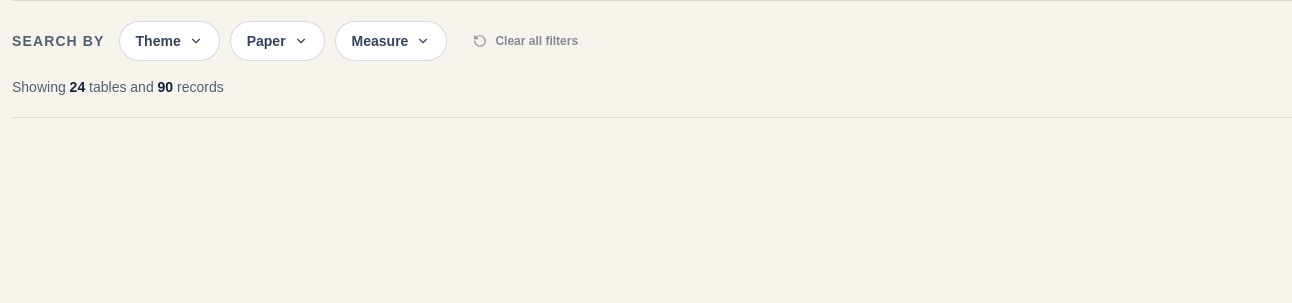
Test: VariableFilterBar › keeps checkbox selection open and Clear all filters closes the menu and clears selections
Click the heading "Theme".
click(169, 41)  # box [118,21,220,61]
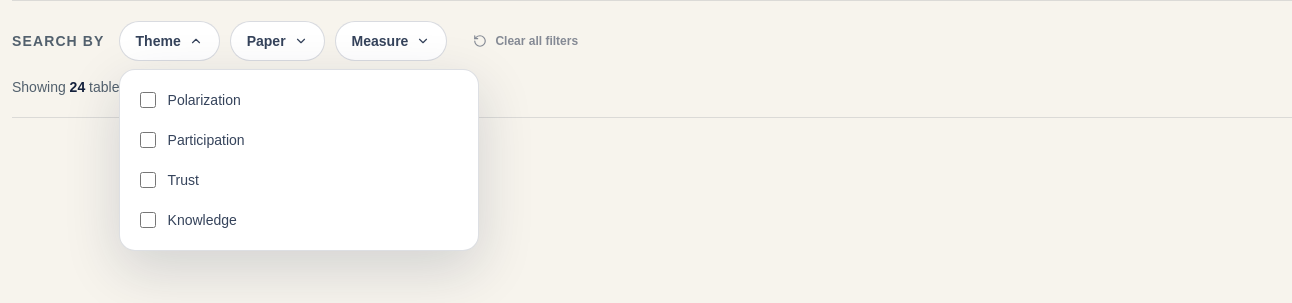
Click the checkbox labelled "Polarization".
click(148, 100)  # box [140,92,156,108]
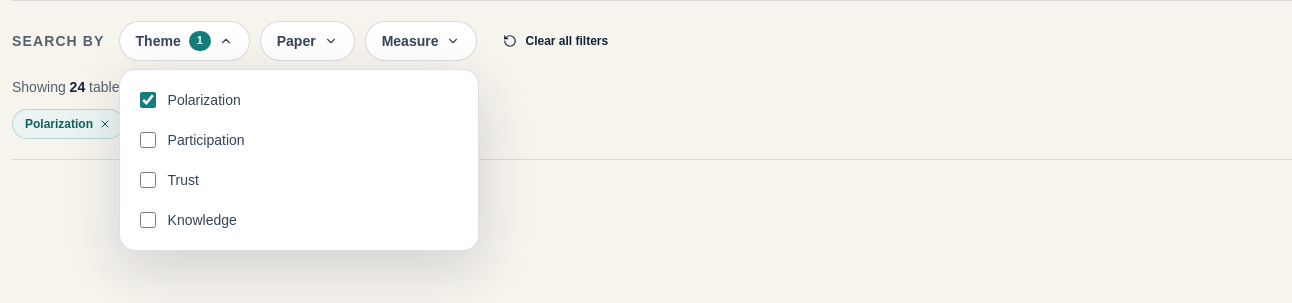
Check: the checkbox labelled "Polarization" is checked, box [140,92,156,108]
Check: the button "Clear all filters" is enabled
Click the button "Clear all filters".
click(556, 41)  # box [488,23,624,59]
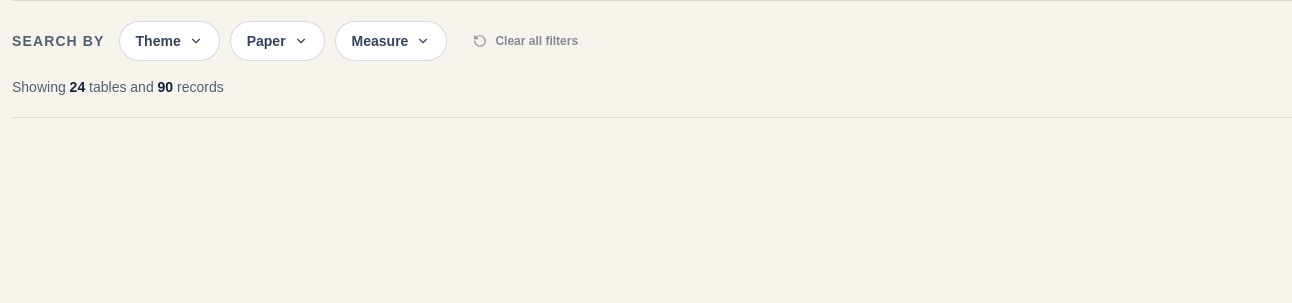
Check: the button "Clear all filters" is disabled, box [457,23,594,59]
